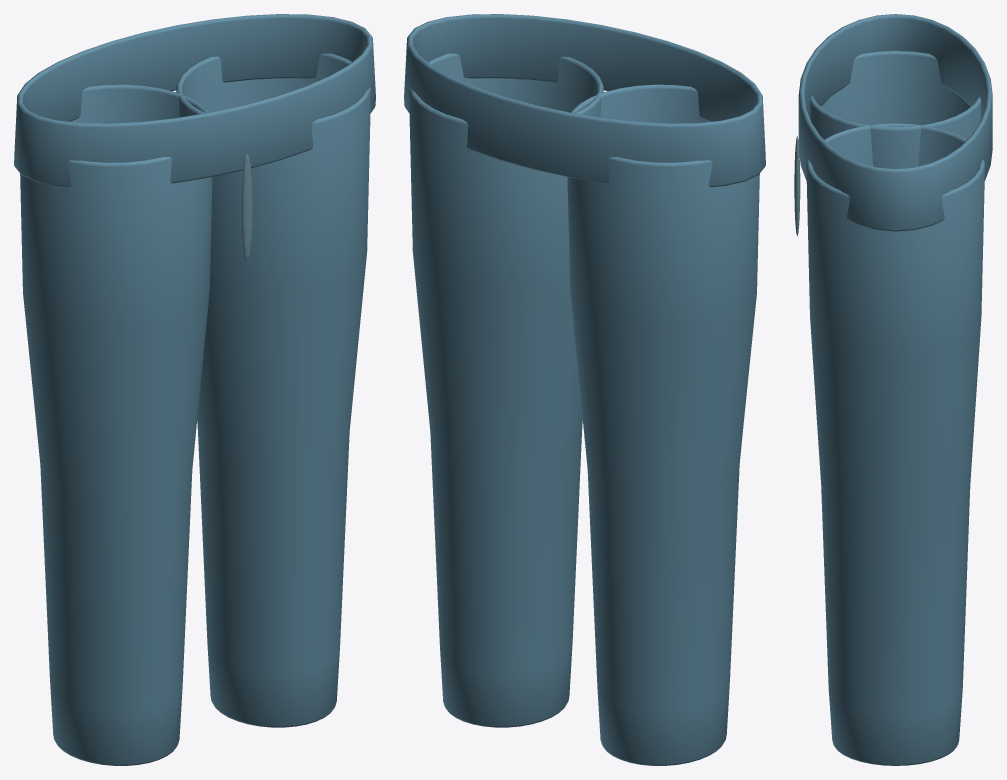
File: jeans-ra.glb
3 views of the same model, side by side, from view 1: azimuth 30°, elevation 25°; view 2: azimuth 150°, elevation 25°; view 3: azimuth 270°, elevation 25° (orthographic). The views are drawn at different scales.
Parts seen in each view (by area): view 1: Denim jeans leg, Denim jeans leg.001, Denim jeans waistband, Denim fly seam; view 2: Denim jeans leg, Denim jeans leg.001, Denim jeans waistband; view 3: Denim jeans leg.001, Denim jeans waistband, Denim jeans leg, Denim fly seam.
Part boxes in pixels (left/top/right/bottom): Denim jeans leg: left=20, top=84, right=212, bottom=765; Denim jeans leg.001: left=176, top=53, right=370, bottom=727; Denim jeans waistband: left=14, top=14, right=375, bottom=187; Denim fly seam: left=241, top=154, right=252, bottom=260; Denim jeans leg: left=567, top=84, right=759, bottom=765; Denim jeans leg.001: left=409, top=53, right=603, bottom=727; Denim jeans waistband: left=404, top=14, right=765, bottom=187; Denim jeans leg.001: left=806, top=123, right=984, bottom=765; Denim jeans waistband: left=798, top=14, right=992, bottom=231; Denim jeans leg: left=810, top=51, right=980, bottom=169; Denim fly seam: left=794, top=136, right=800, bottom=236.
Bounding box in the file's own units: 0.5096 × 0.9098 × 0.266.
